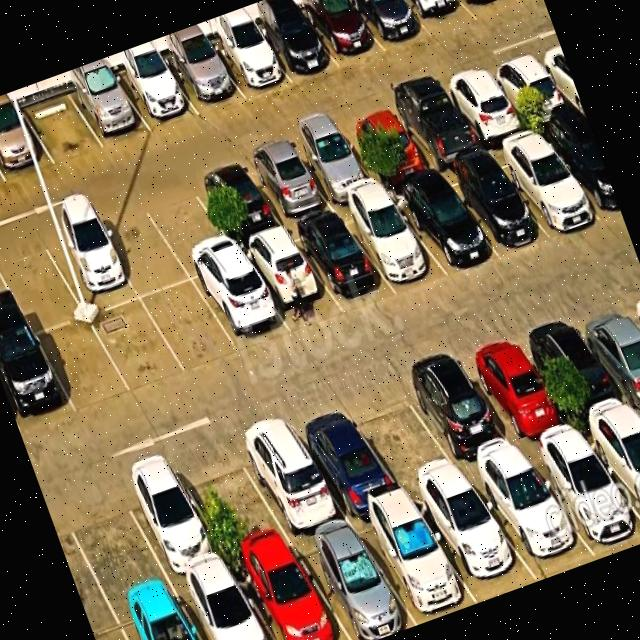empty: (170, 439, 291, 563), (55, 476, 169, 607), (341, 377, 465, 496), (140, 181, 241, 280), (93, 201, 190, 298), (89, 299, 187, 394), (141, 281, 240, 374), (36, 318, 131, 414), (0, 236, 85, 334), (21, 91, 104, 164)
occupied: (395, 353, 524, 478), (352, 500, 477, 625), (229, 412, 349, 541), (411, 481, 538, 602), (454, 333, 578, 456), (470, 458, 596, 579), (112, 457, 229, 583), (290, 524, 417, 640), (285, 398, 404, 519), (520, 311, 637, 432), (526, 438, 640, 557), (488, 135, 602, 236), (231, 544, 350, 640), (238, 231, 343, 335), (437, 159, 547, 256), (389, 179, 499, 276), (289, 213, 395, 313), (338, 196, 448, 291), (39, 218, 139, 316), (194, 264, 292, 353), (538, 118, 623, 220), (568, 295, 640, 411), (386, 90, 485, 171), (190, 162, 284, 247), (0, 332, 77, 435), (173, 565, 274, 640), (241, 145, 333, 226), (287, 128, 380, 206), (337, 109, 432, 185), (440, 70, 530, 146), (486, 53, 576, 128), (253, 11, 339, 83), (114, 61, 199, 132), (68, 76, 151, 148), (299, 0, 385, 68), (583, 413, 640, 514), (207, 31, 292, 98), (165, 46, 244, 114), (113, 586, 201, 640), (349, 0, 432, 52), (0, 108, 54, 182), (402, 0, 477, 39), (460, 0, 522, 20)
